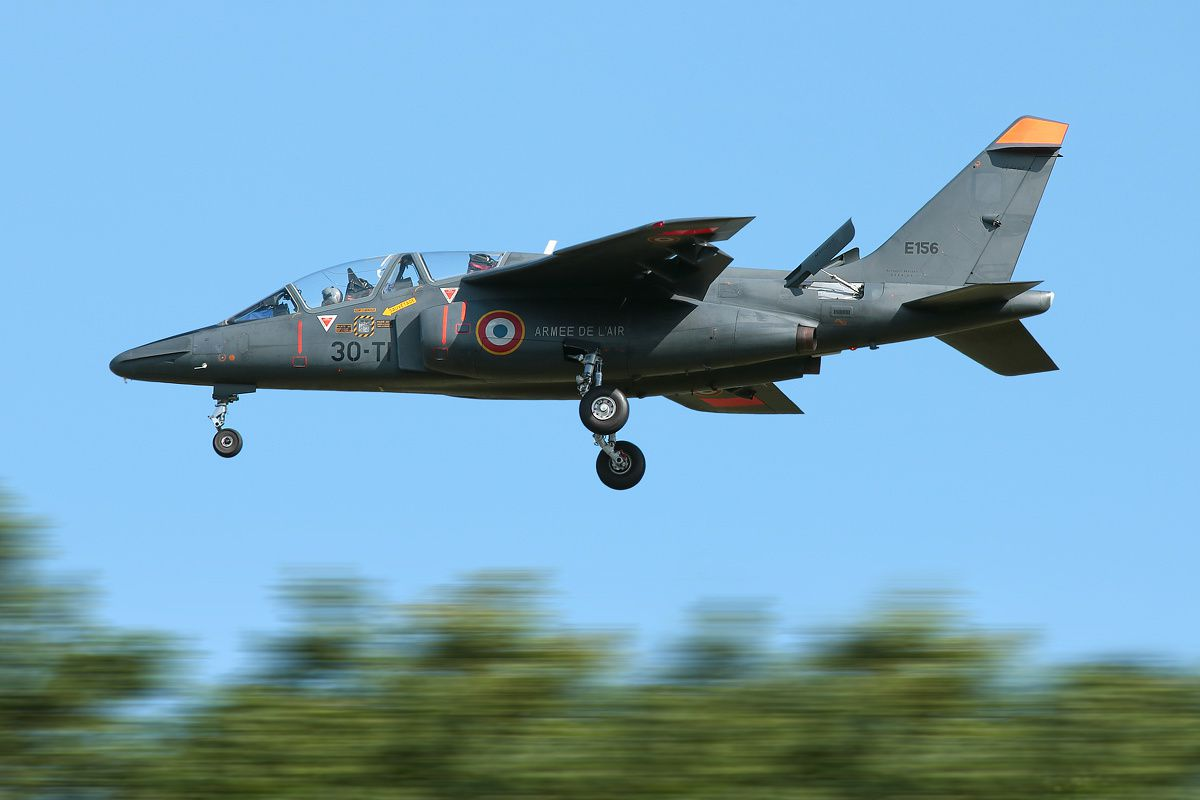Aeronef_militaire: (93, 106, 1106, 496)
